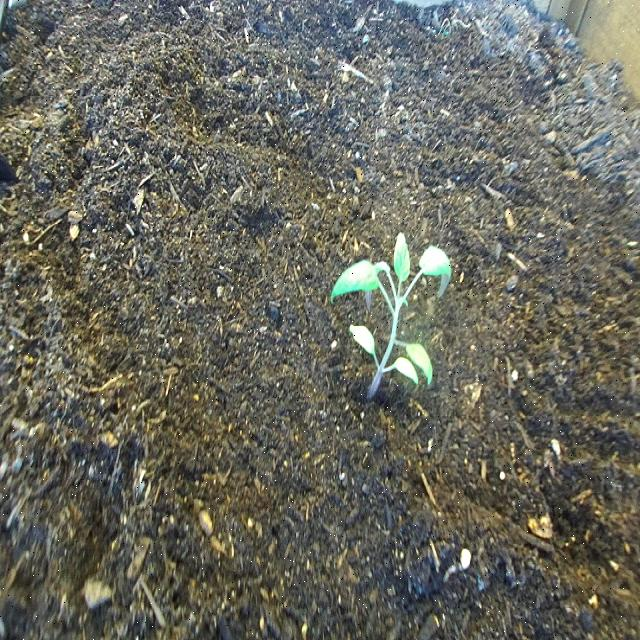Healthy: (326, 203, 458, 438)
